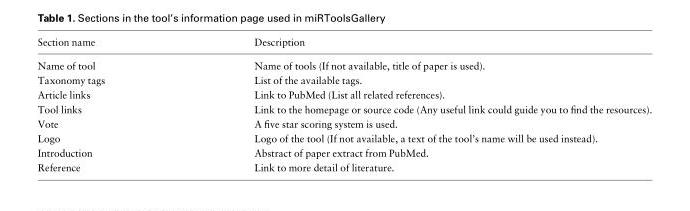table: (36, 36, 651, 172)
table column: (178, 36, 651, 172), (36, 36, 178, 172)
table column header: (36, 36, 651, 53)
table row: (36, 53, 651, 72), (36, 36, 651, 53), (36, 72, 651, 87), (36, 87, 651, 102), (36, 116, 651, 131), (36, 145, 651, 160), (36, 102, 651, 116), (36, 131, 651, 145), (36, 160, 651, 172)
